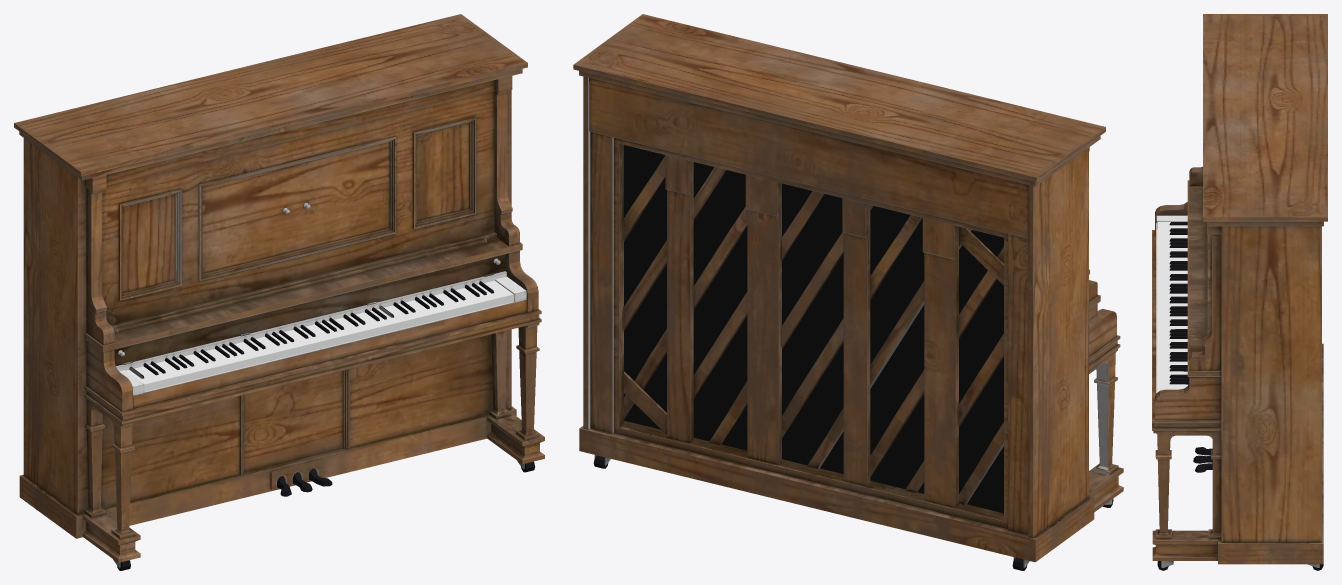
Rendered from optimized_piano.glb.
The picture shows the model from 3 angles, left to right: view 1: azimuth 30°, elevation 25°; view 2: azimuth 150°, elevation 25°; view 3: azimuth 270°, elevation 25°; orthographic projection. The views are drawn at different scales.
Parts seen in each view (by area): view 1: defaultMaterial; view 2: defaultMaterial; view 3: defaultMaterial.
Boxes of the visible parts, x1,y1,x2,y2 form: defaultMaterial: (14, 14, 544, 570); defaultMaterial: (573, 14, 1123, 570); defaultMaterial: (1152, 14, 1327, 570).
Bounding box in the file's own units: 152 × 126 × 55.67.
Materials: 1 (1 with a texture image).
